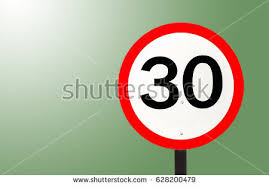Speed_limit_30km: (119, 23, 245, 149)
